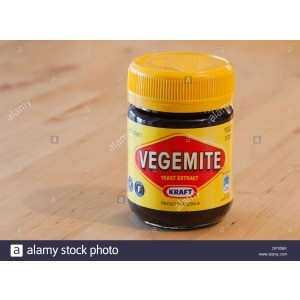yeast spread_brain food: (125, 113, 241, 227)
